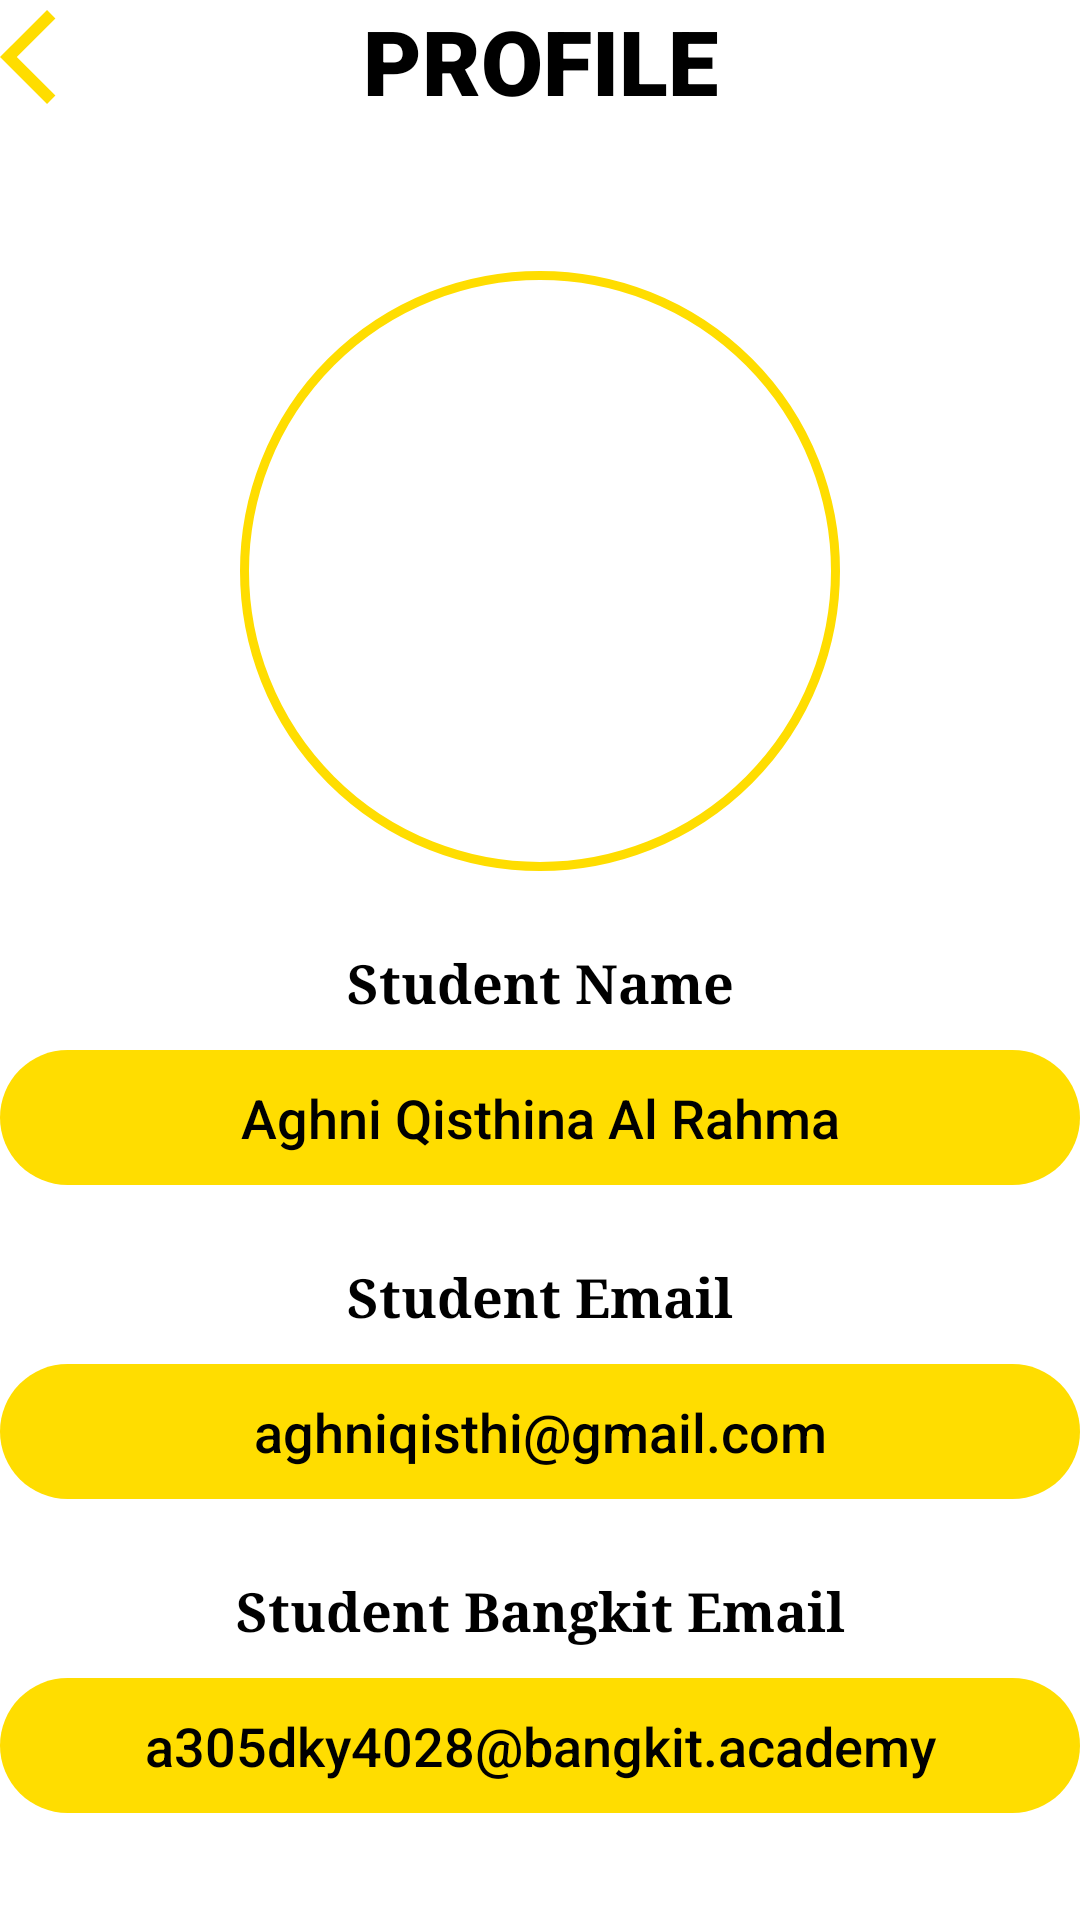

Icon bounding boxes for this 1080*1920 phone screenshot, format (x1, y1, x2, y2):
back icon: (0, 10, 56, 104)
